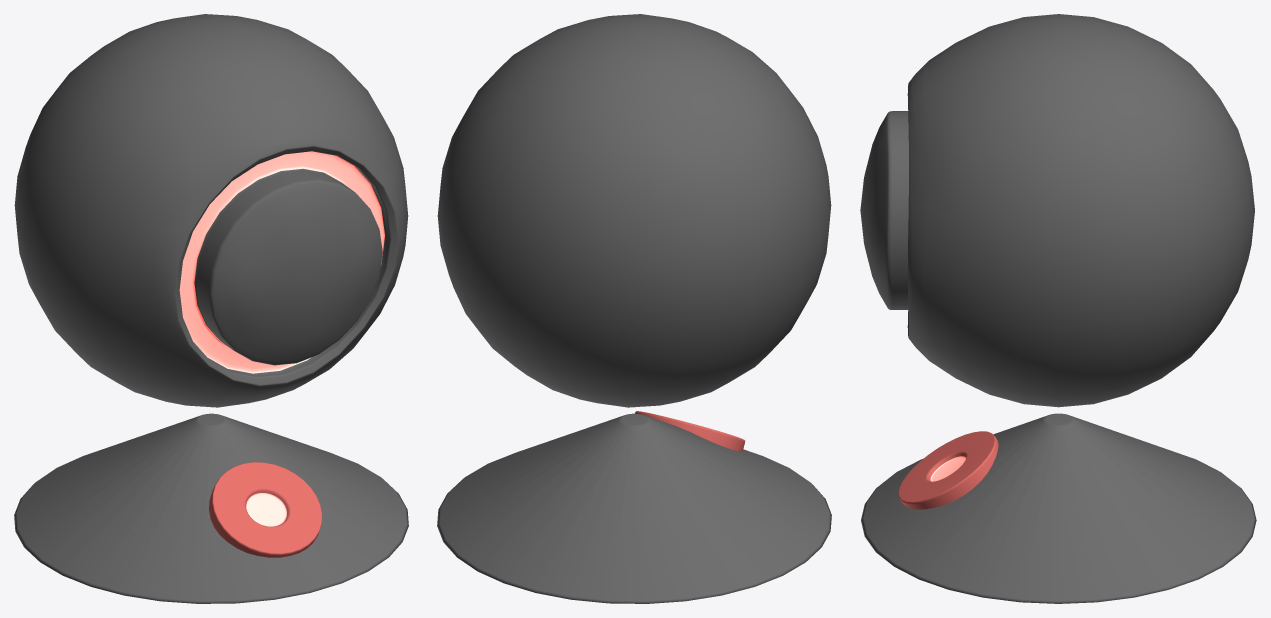
The picture shows the model from 3 angles, left to right: view 1: azimuth 30°, elevation 25°; view 2: azimuth 150°, elevation 25°; view 3: azimuth 270°, elevation 25°; orthographic projection.
Visible parts, largest first — view 1: Sphere; view 2: Sphere; view 3: Sphere.
Boxes of the visible parts, x1,y1,x2,y2 form: Sphere: (14,14,408,603); Sphere: (437,14,831,603); Sphere: (860,14,1256,603).
Size of the model in its own units: 5142 by 7004 by 5148.
